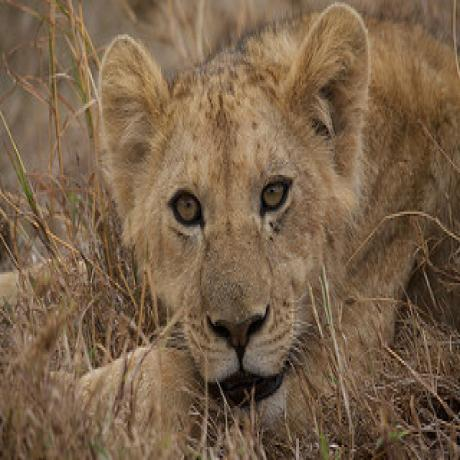Lion: (89, 2, 460, 416)
